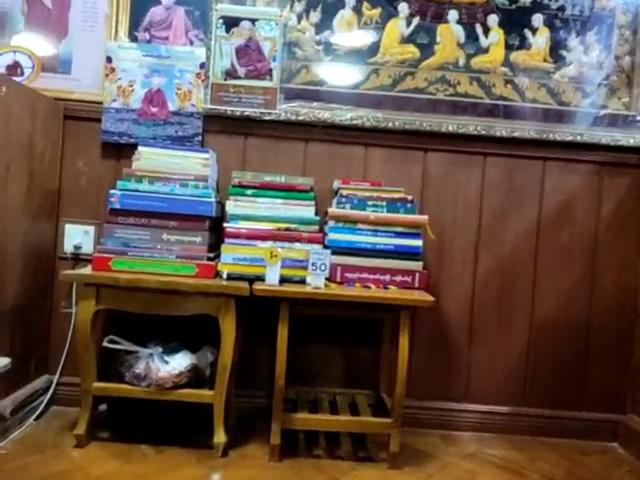Speed Limit 50: (306, 245, 333, 275)
Straight Or Right Sign: (262, 244, 283, 266)
